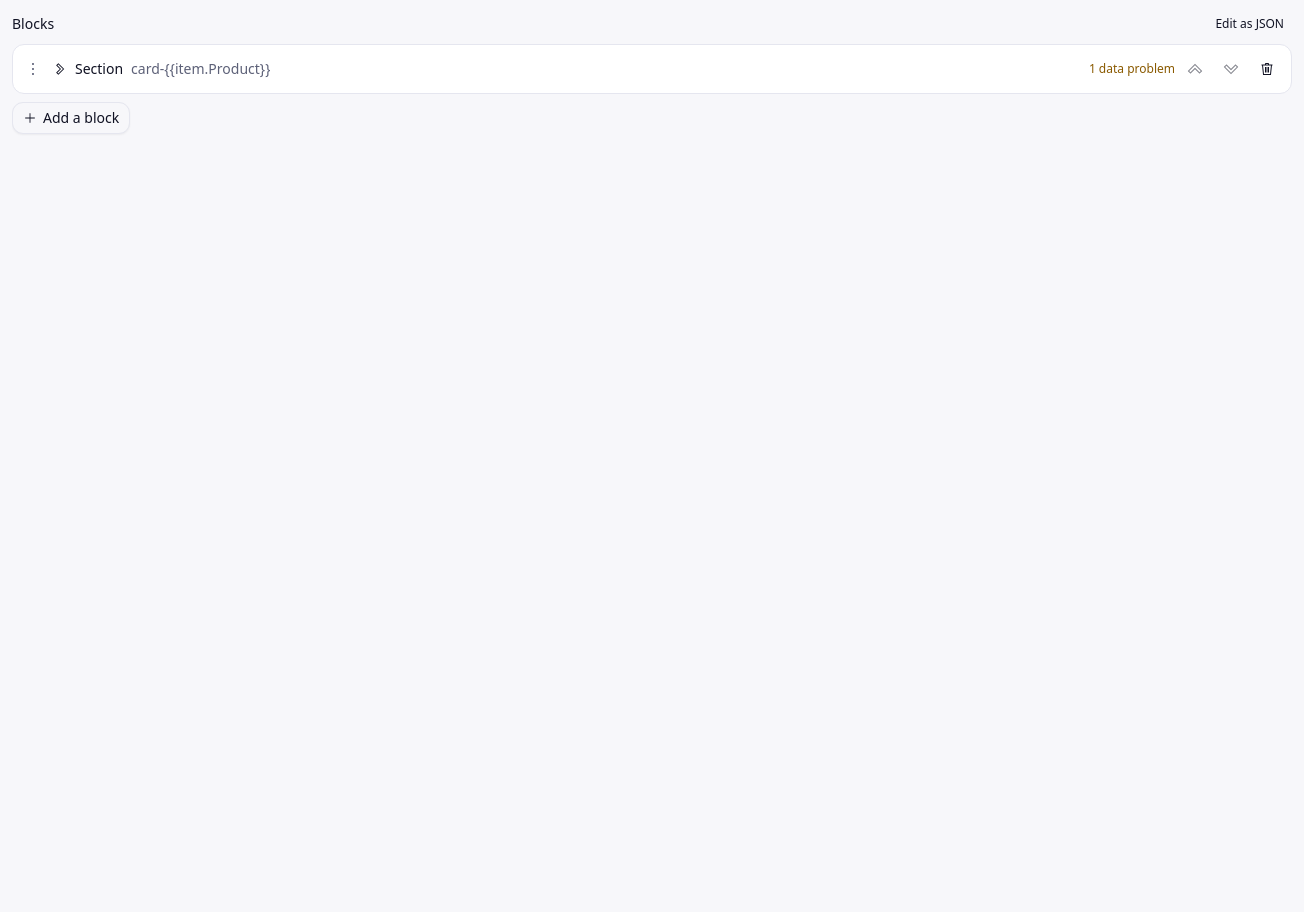
Scenario: a recipe field › keeps a bound name and says nothing about it, and flags a name the site does not have
Click the button "Section card-{{item.Product}}" at {"x": 99, "y": 68}, box x1=49 y1=55 x2=1085 y2=83
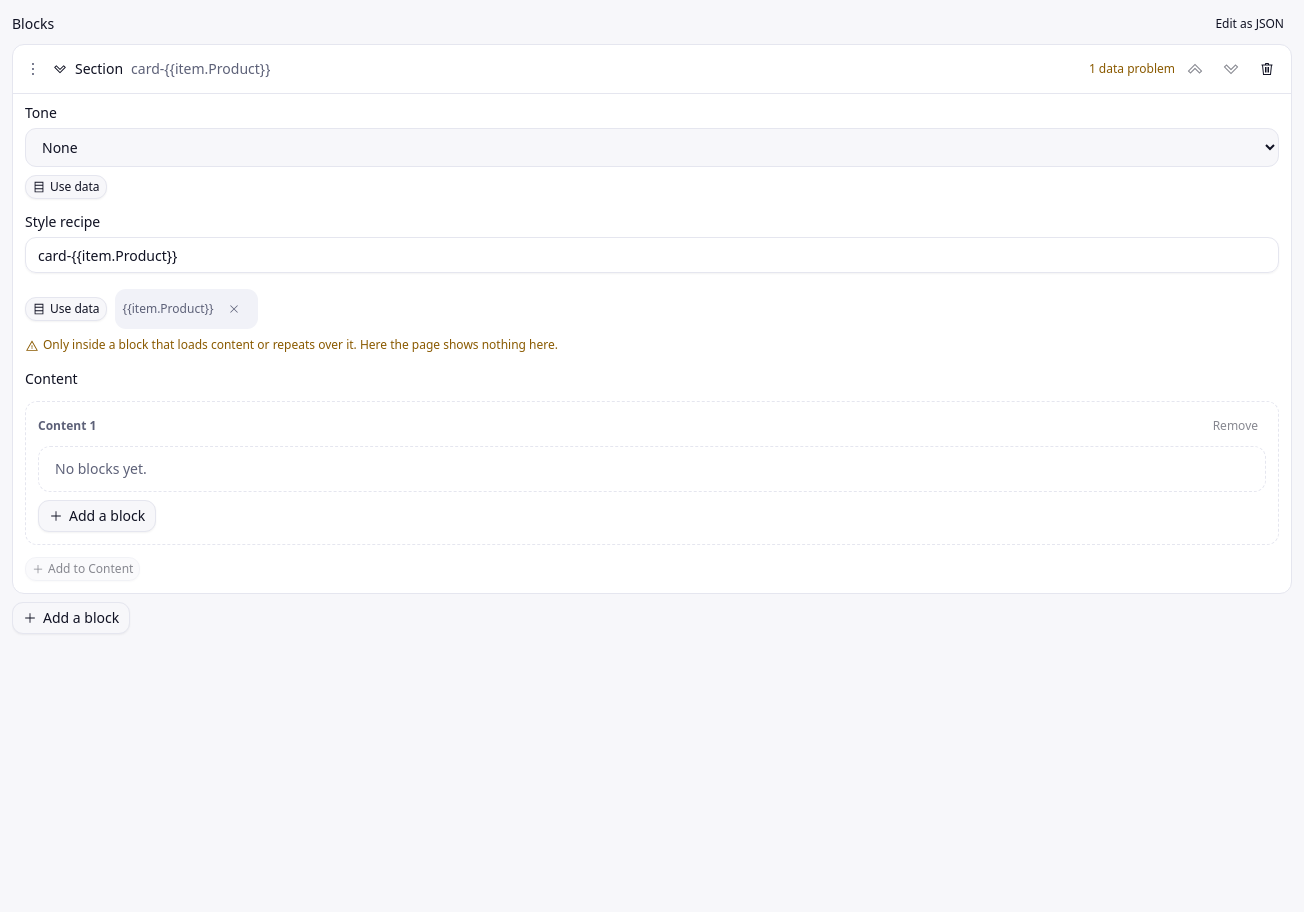
Expected: the text "no recipe called" is not shown
Result: the field labelled "Style recipe" holds "card-{{item.Product}}"
Replace the text in the field labelled "Style recipe" with "cardd" at {"x": 652, "y": 255}, box x1=25 y1=237 x2=1279 y2=273
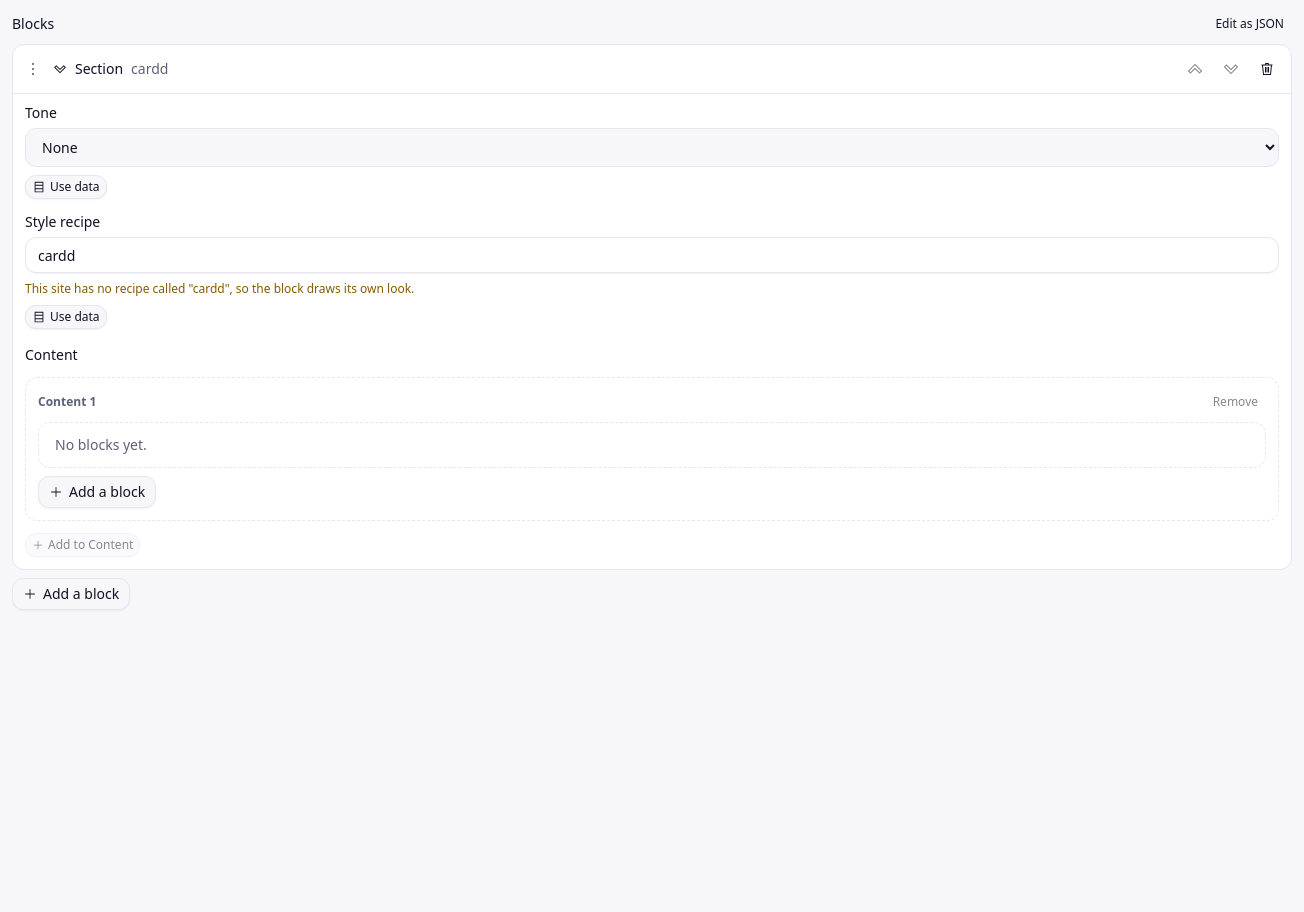
Result: the text "This site has no recipe called \"cardd\", so the block draws its own look." is shown at x1=25 y1=280 x2=414 y2=297
